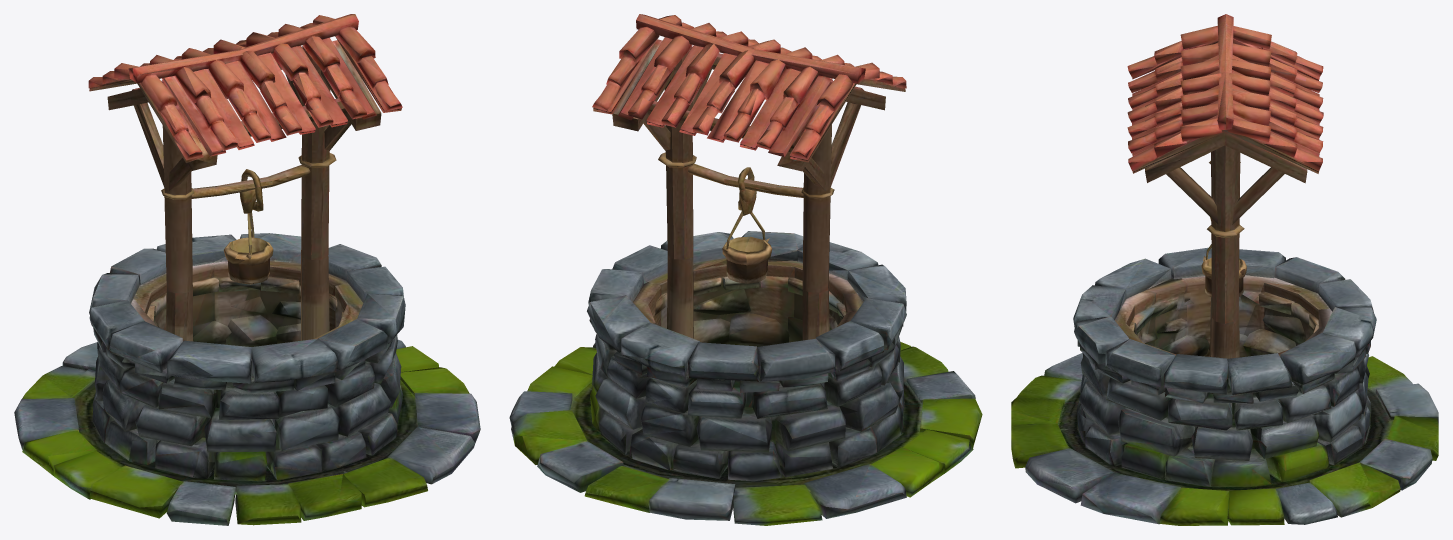
The model's file is well.glb.
3 views of the same model, side by side, from view 1: azimuth 30°, elevation 25°; view 2: azimuth 150°, elevation 25°; view 3: azimuth 270°, elevation 25° (orthographic). The views are drawn at different scales.
Size of the model in its own units: 2.62 by 2.5 by 2.62.
1 material, 1 textured.
